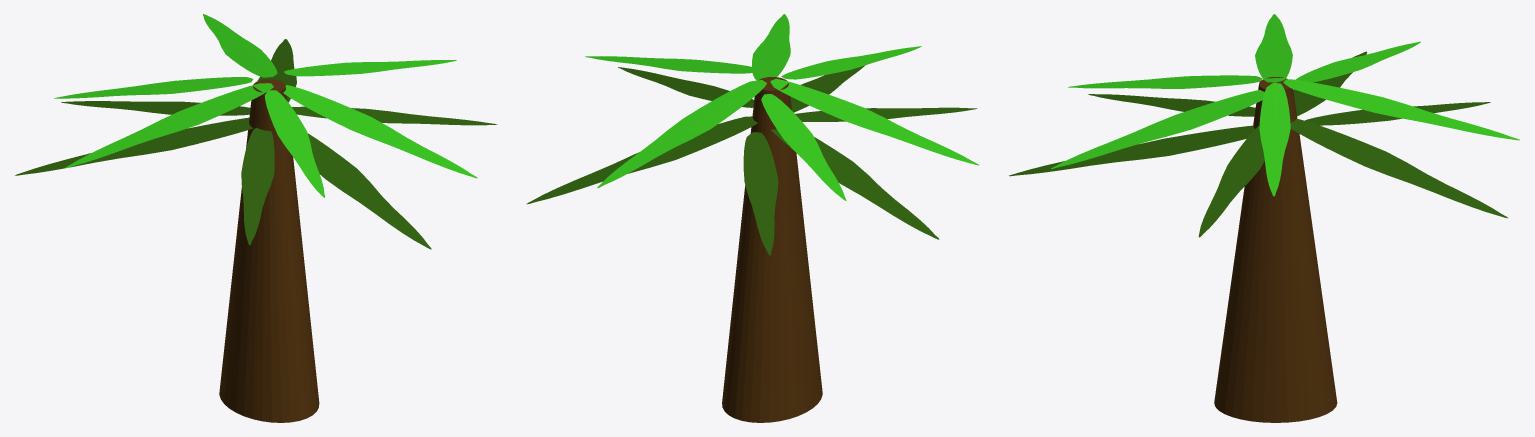
The model's file is palm_tree.obj.
The picture shows the model from 3 angles, left to right: view 1: azimuth 30°, elevation 25°; view 2: azimuth 150°, elevation 25°; view 3: azimuth 270°, elevation 25°; orthographic projection. The views are drawn at different scales.
Visible parts, largest first — view 1: Cylinder, Circle, Circle.001; view 2: Cylinder, Circle, Circle.001; view 3: Cylinder, Circle, Circle.001.
Boxes of the visible parts, x1,y1,x2,y2 form: Cylinder: (219,79,319,422); Circle: (54,14,477,197); Circle.001: (15,39,497,249); Cylinder: (722,77,822,422); Circle: (585,14,979,200); Circle.001: (526,65,977,255); Cylinder: (1214,77,1337,422); Circle: (1051,14,1519,196); Circle.001: (1009,51,1507,237).
Size of the model in its own units: 2.22 by 1.7 by 2.41.
